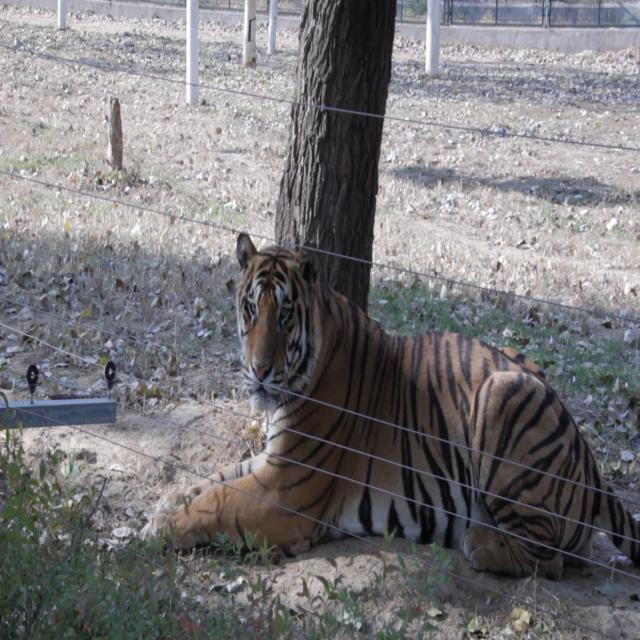Tiger: (145, 226, 640, 573)
